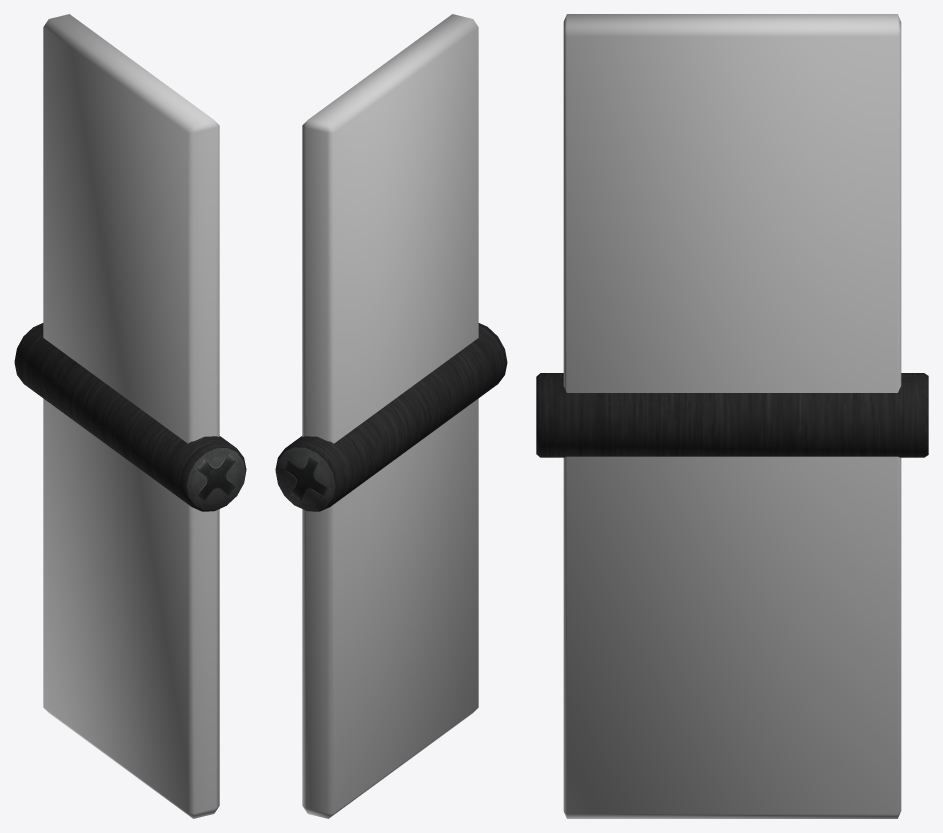
The model's file is SpinBoard.fbx.
The picture shows the model from 3 angles, left to right: view 1: azimuth 30°, elevation 25°; view 2: azimuth 150°, elevation 25°; view 3: azimuth 270°, elevation 25°; orthographic projection. The views are drawn at different scales.
Parts seen in each view (by area): view 1: Board, Screw; view 2: Board, Screw; view 3: Board, Screw.
Boxes of the visible parts, bbox=[...] form: Board: bbox=[43, 14, 219, 818]; Screw: bbox=[14, 323, 246, 511]; Board: bbox=[302, 14, 478, 818]; Screw: bbox=[275, 323, 507, 511]; Board: bbox=[563, 14, 901, 818]; Screw: bbox=[536, 373, 928, 457].
Bounding box in the file's own units: 23.32 × 241 × 108.
